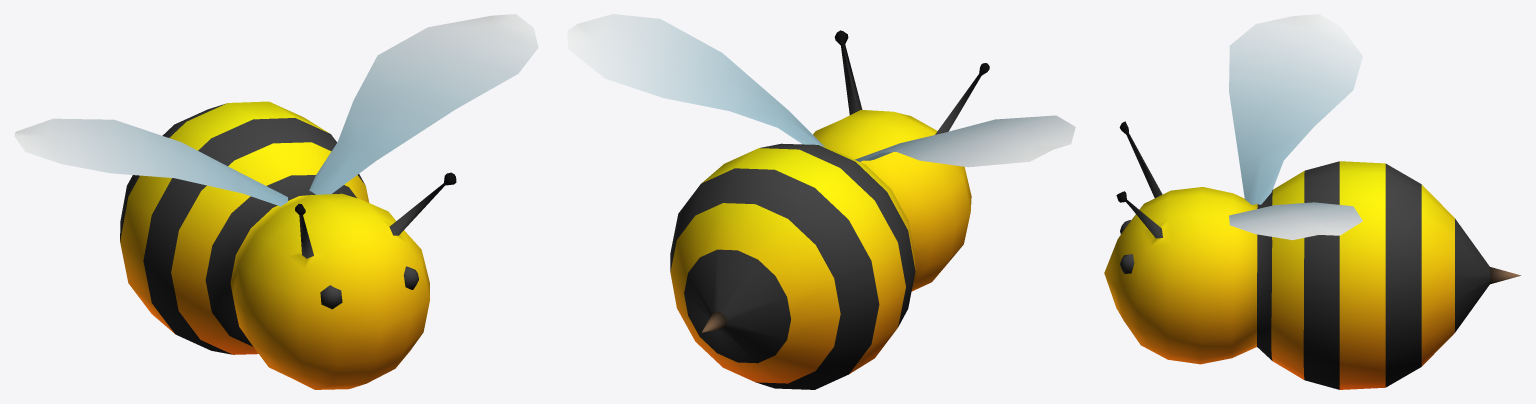
File: bee.fbx
The picture shows the model from 3 angles, left to right: view 1: azimuth 30°, elevation 25°; view 2: azimuth 150°, elevation 25°; view 3: azimuth 270°, elevation 25°; orthographic projection. The views are drawn at different scales.
Visible parts, largest first — view 1: Bee; view 2: Bee; view 3: Bee.
Part boxes in pixels (box(x1,y1,x2,y2)): Bee: box(14, 14, 538, 389); Bee: box(567, 14, 1075, 389); Bee: box(1104, 14, 1520, 389).
Size of the model in its own units: 4.99 by 2.65 by 3.93.
